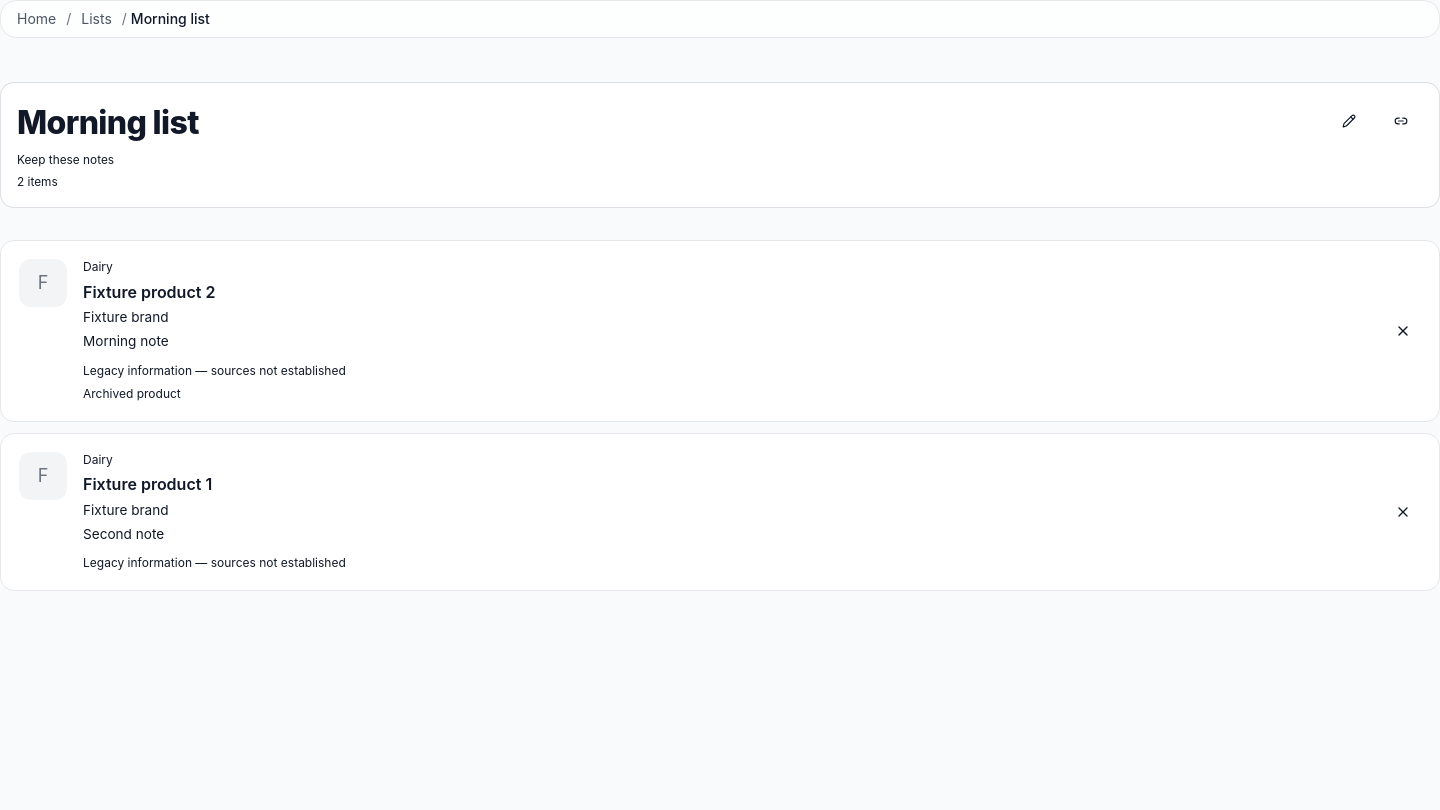
Test case: evidence-first saved list › keeps failed edits retryable and sends an explicit empty description
Expected: the heading "Morning list" is shown, [17,99,199,147]
Click the button named "Edit list" at (1349, 121), box [1327,99,1371,143]
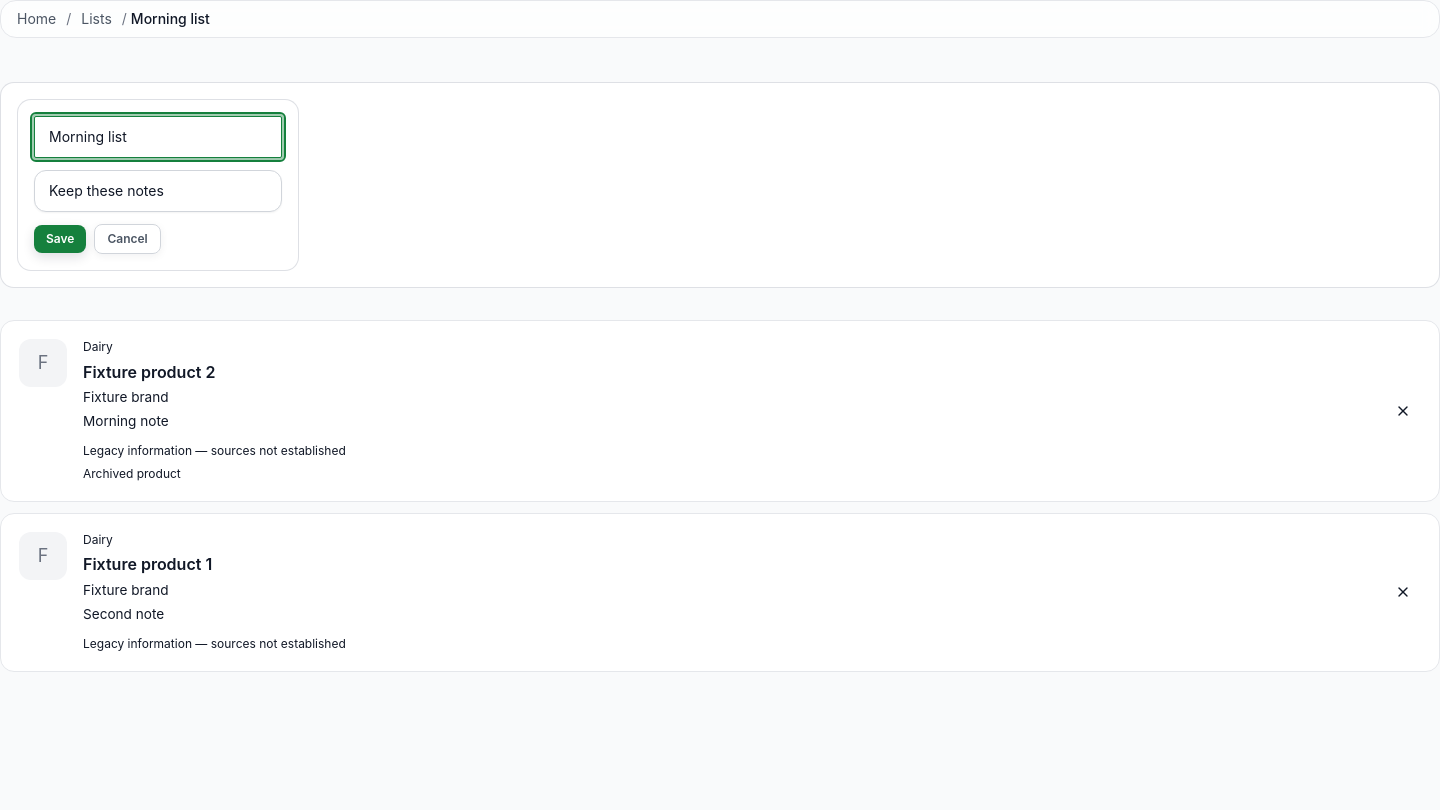
Replace the text in the field named "List name" with "Edited name" at (158, 137), box [34,116,282,158]
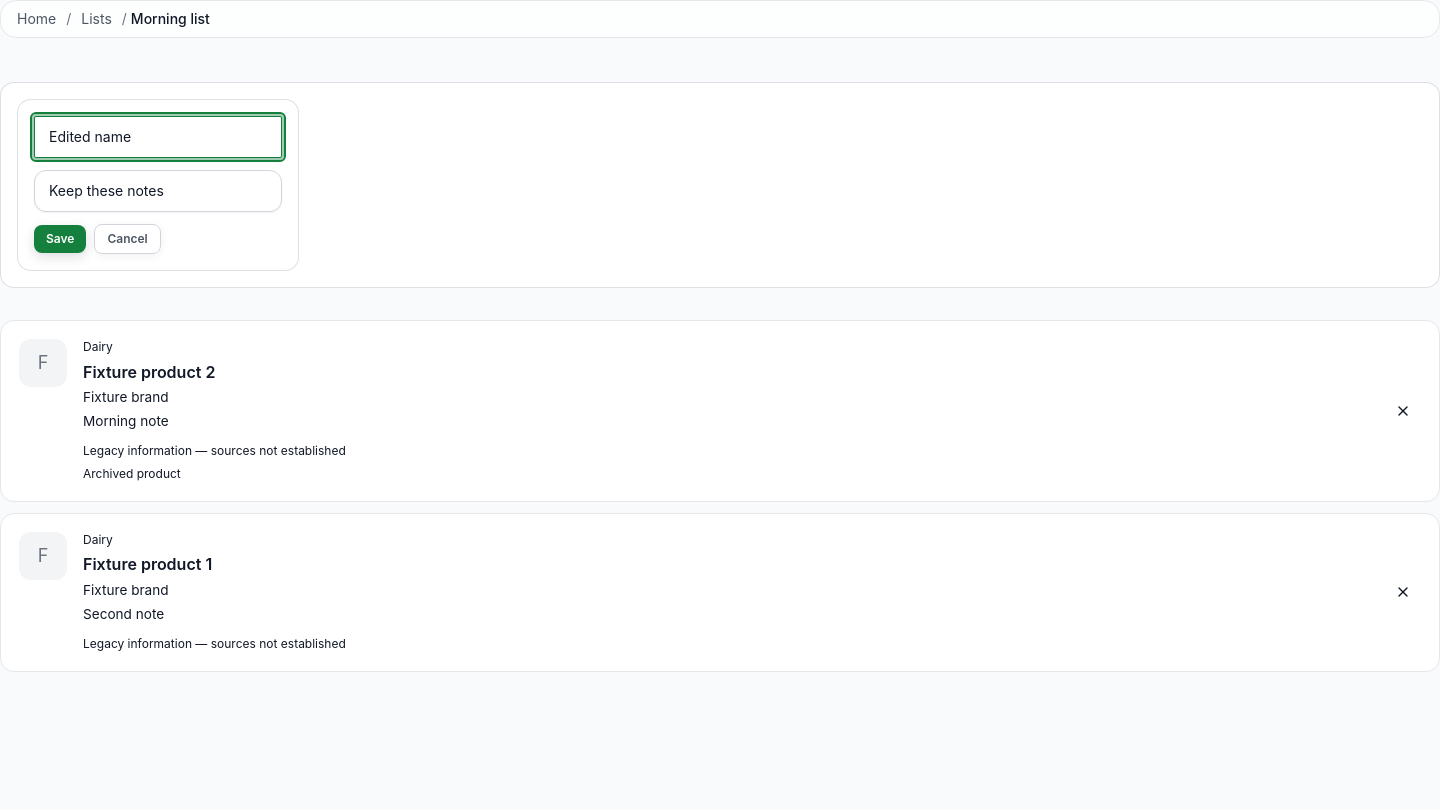
Clear the field named "List description" at (158, 191), box [34,170,282,212]
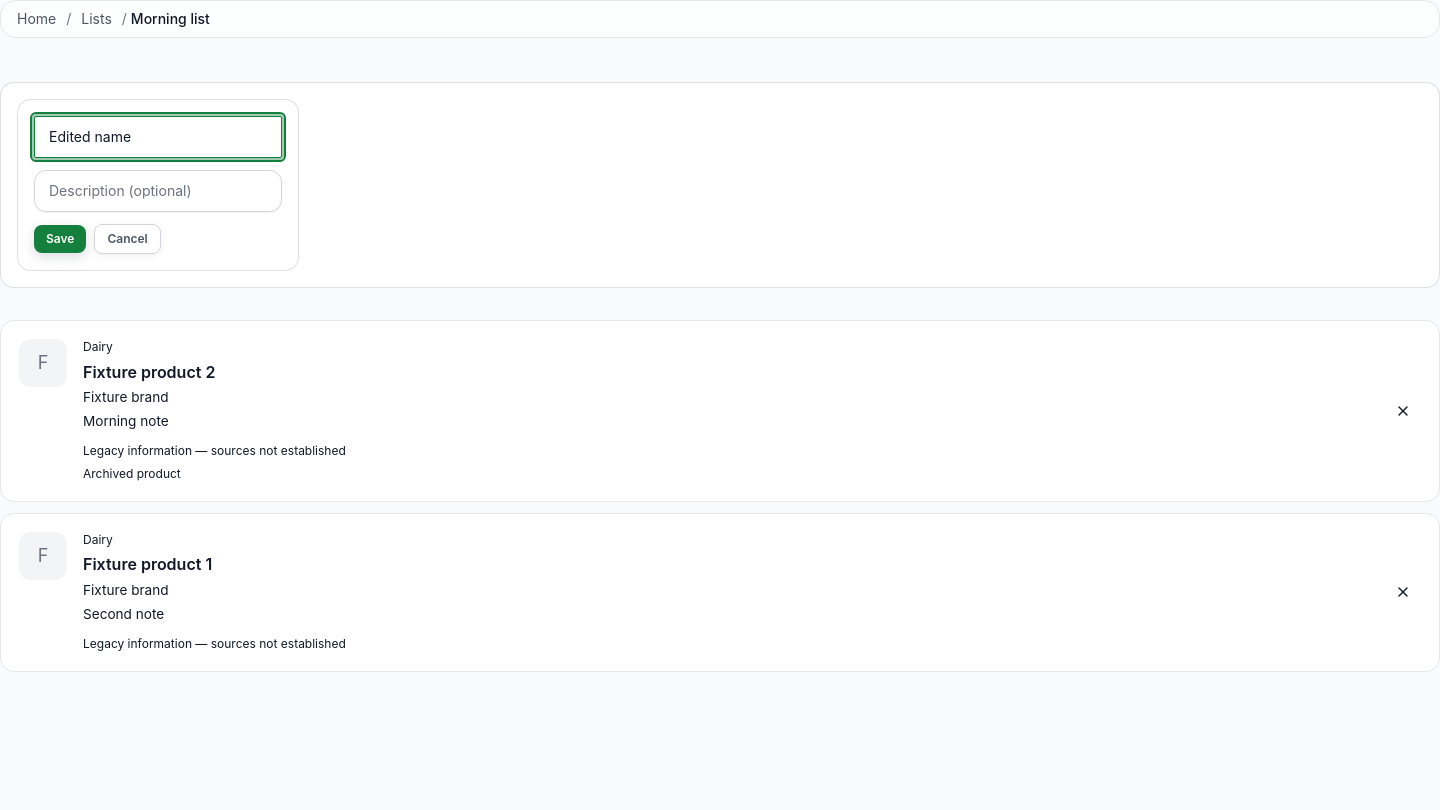
Click the button "Save" at (60, 239), box [34,225,86,253]
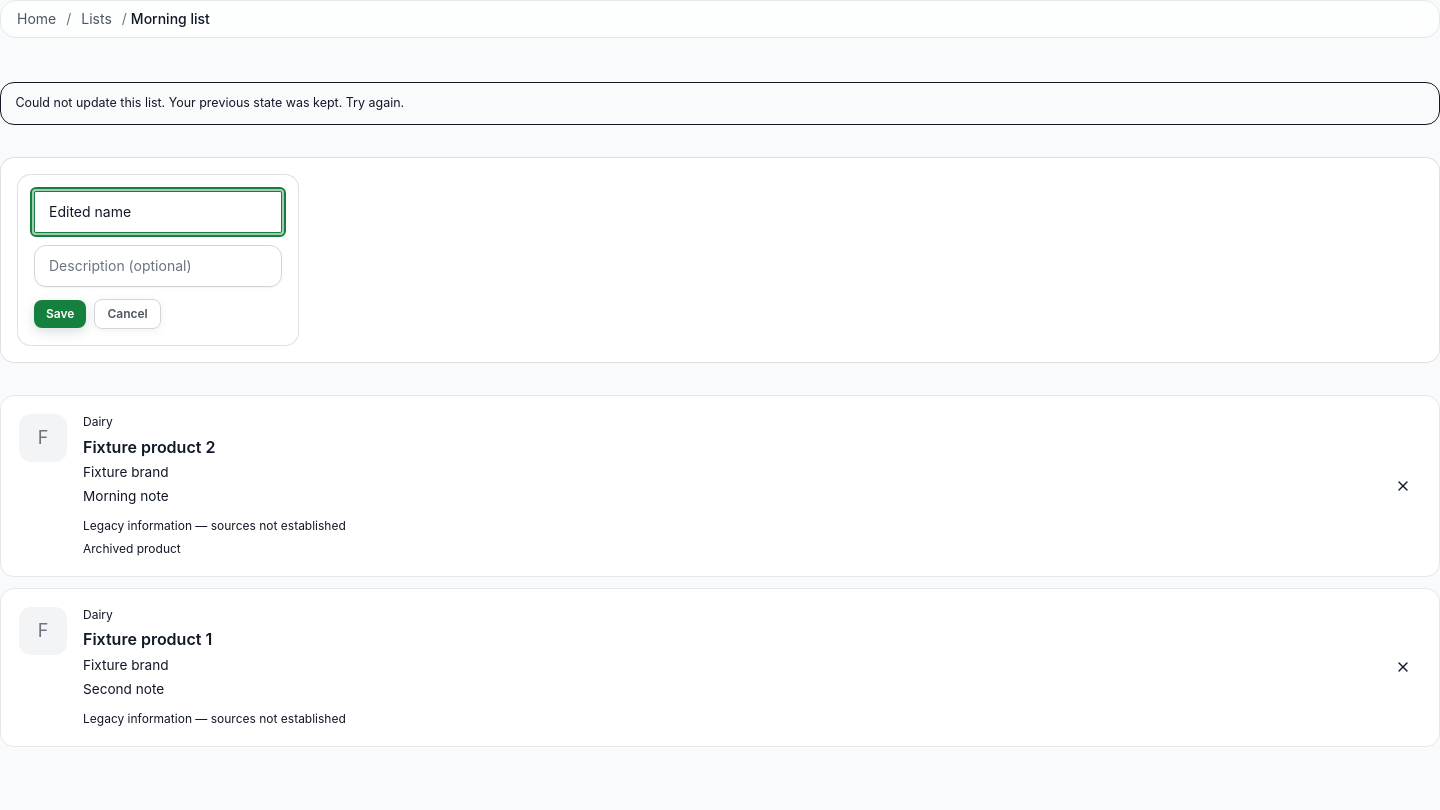
Expected: the message "Could not update this list. Your previous state was kept. Try again." is shown, [0,82,1439,125]
